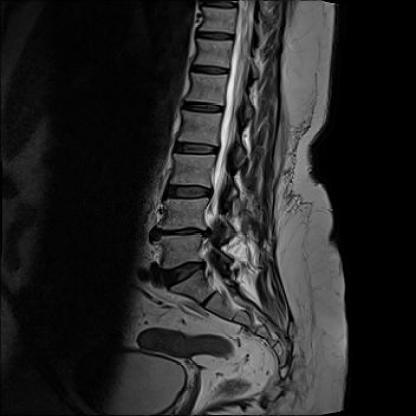Disc Bulgerotation: (155, 258, 214, 289)
Disc Herniationrotation: (146, 218, 220, 248)
